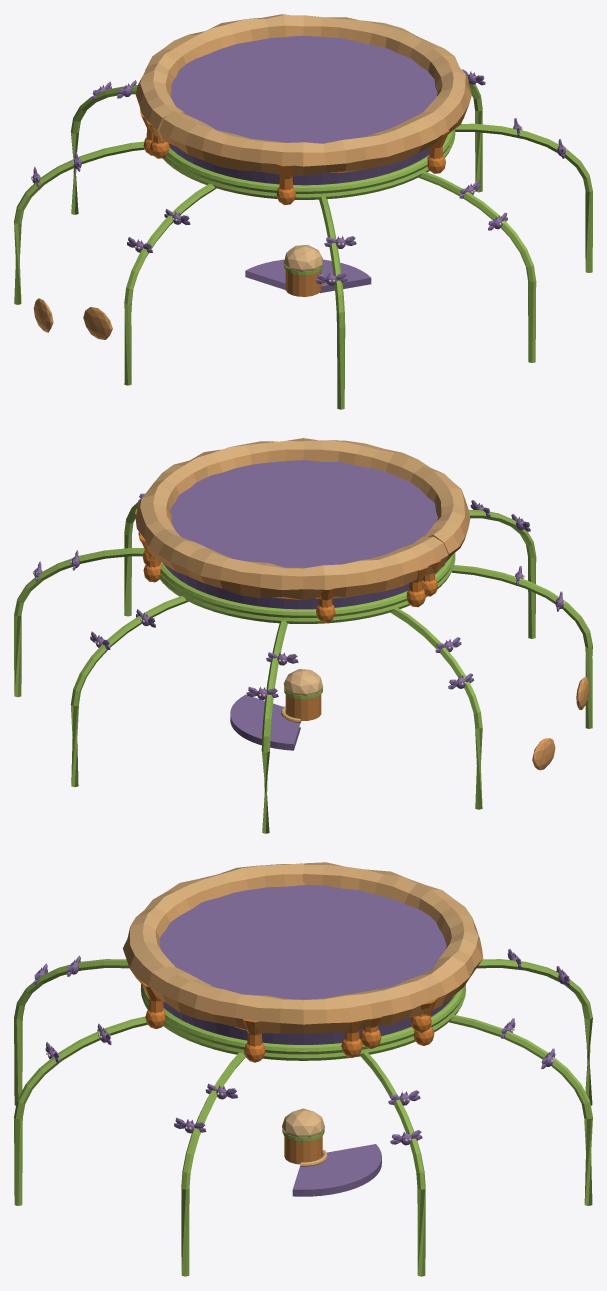
The model's file is goo_jar_trim_3_top@haunted.fbx.
The picture shows the model from 3 angles, top to bottom: view 1: azimuth 30°, elevation 25°; view 2: azimuth 150°, elevation 25°; view 3: azimuth 270°, elevation 25°; orthographic projection. The views are drawn at different scales.
Visible parts, largest first — view 1: goo_jar_trim_3_top; view 2: goo_jar_trim_3_top; view 3: goo_jar_trim_3_top.
Part boxes in pixels (x1,y1,x2,y2): goo_jar_trim_3_top: (14,14,592,409); goo_jar_trim_3_top: (14,438,592,833); goo_jar_trim_3_top: (14,862,592,1276).
Size of the model in its own units: 47.31 by 20.21 by 45.37.
